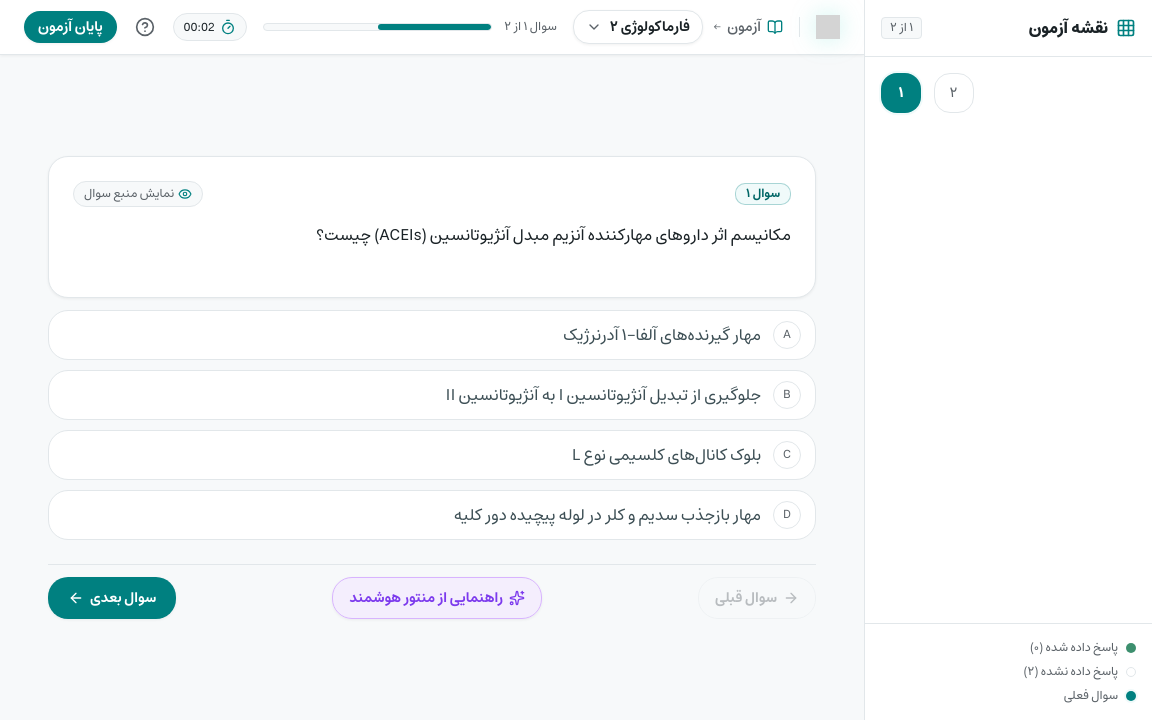
ExamTakingView Component › renders Course -> Module hierarchy via coverage and suppresses lesson titles and UUIDs
Expected: the text "فارماکولوژی ۲" is shown, [610, 17, 690, 37]
Expected: the text "داروهای کورتیکواستروئیدی" is not shown
Note: Click Course toggle button to expand
Click the button with aria-label "نمایش فصل‌های دوره فارماکولوژی ۲" at (638, 27), box [573, 10, 703, 44]
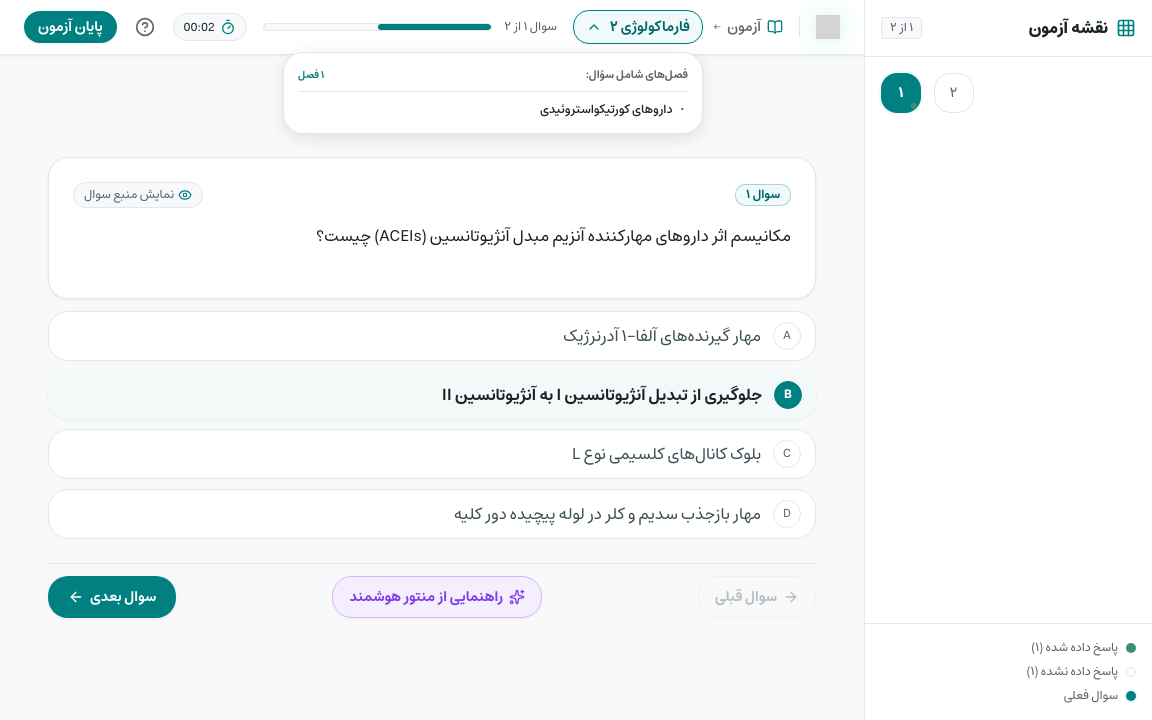
Now the text "داروهای کورتیکواستروئیدی" is shown, box [540, 100, 672, 119]
